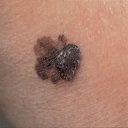Melanoma: (33, 38, 82, 83)
